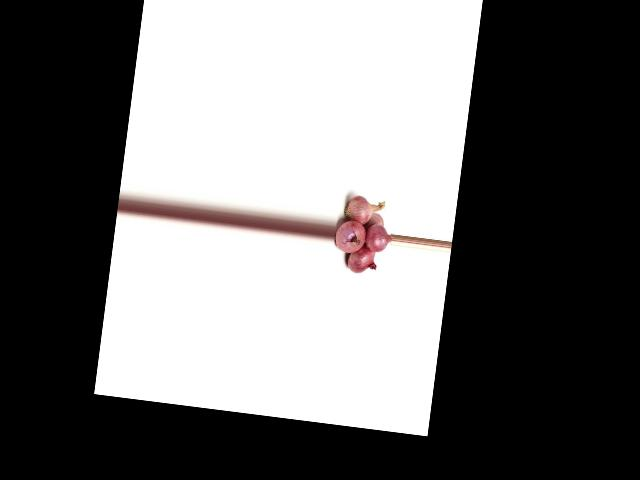onion: (332, 212, 368, 255)
